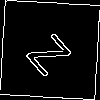Z: (25, 25, 80, 78)
